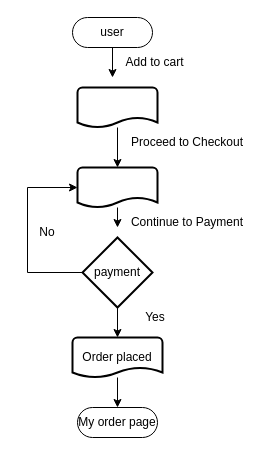
This 264x455 diagram has some shape labels left out. Each missing label, with the centre of its shape:
"cart" goes at point 117,107.
"check out" goes at point 117,187.
